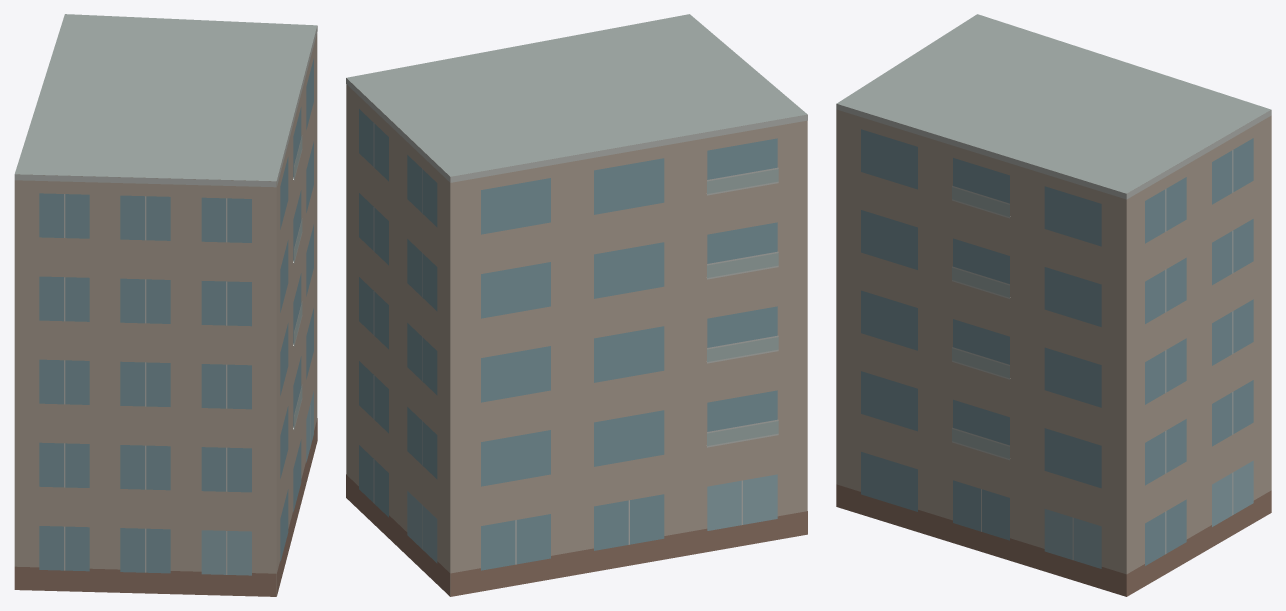
The model's file is survey-upis-32821126.glb.
3 views of the same model, side by side, from view 1: azimuth 30°, elevation 25°; view 2: azimuth 150°, elevation 25°; view 3: azimuth 270°, elevation 25° (orthographic). The views are drawn at different scales.
Visible parts, largest first — view 1: survey-upis-32821126.tmp; view 2: survey-upis-32821126.tmp; view 3: survey-upis-32821126.tmp.
Boxes of the visible parts, x1=… form: survey-upis-32821126.tmp: x1=14, y1=14, x2=317, y2=596; survey-upis-32821126.tmp: x1=346, y1=14, x2=807, y2=596; survey-upis-32821126.tmp: x1=836, y1=14, x2=1271, y2=596.
Bounding box in the file's own units: 16.27 × 17 × 16.64.
